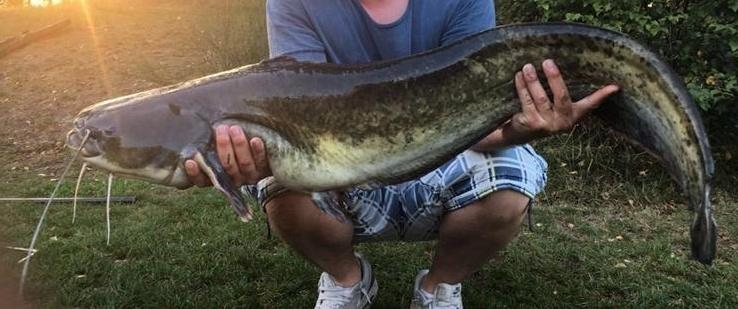Catfish: (65, 17, 719, 264)
